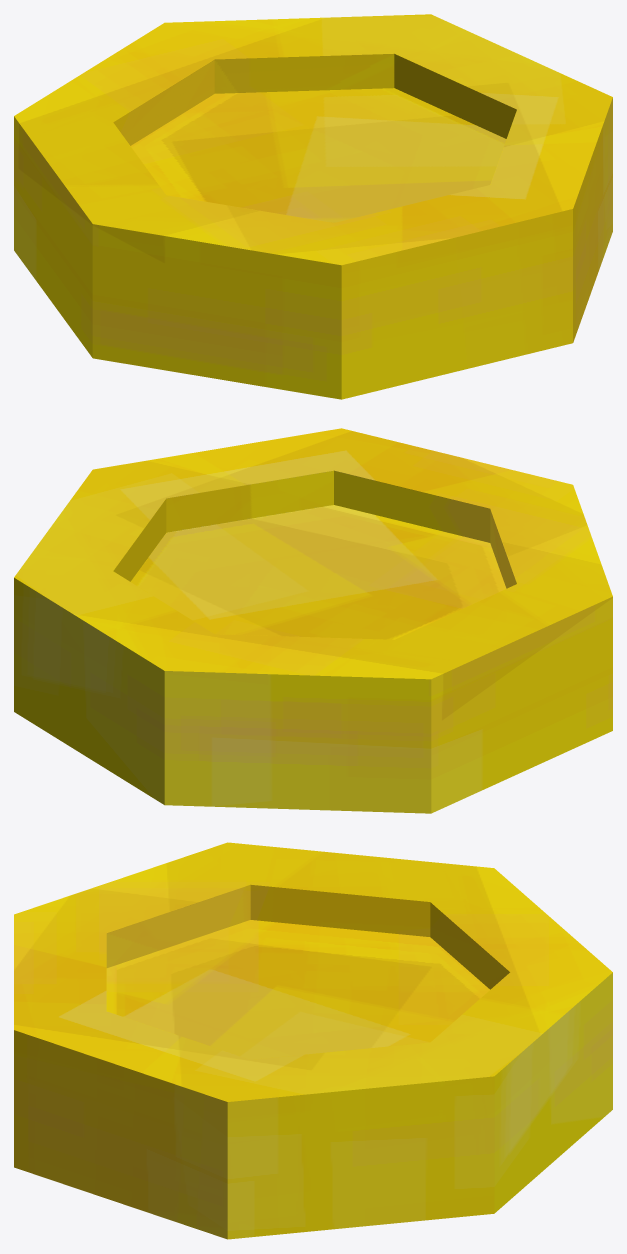
File: Coin.fbx
The picture shows the model from 3 angles, top to bottom: view 1: azimuth 30°, elevation 25°; view 2: azimuth 150°, elevation 25°; view 3: azimuth 270°, elevation 25°; orthographic projection. The views are drawn at different scales.
Parts seen in each view (by area): view 1: Cylinder.001; view 2: Cylinder.001; view 3: Cylinder.001.
Boxes of the visible parts, x1,y1,x2,y2 form: Cylinder.001: [14, 14, 612, 399]; Cylinder.001: [14, 428, 612, 813]; Cylinder.001: [14, 842, 612, 1239].
Size of the model in its own units: 75.44 by 18.62 by 73.55.
